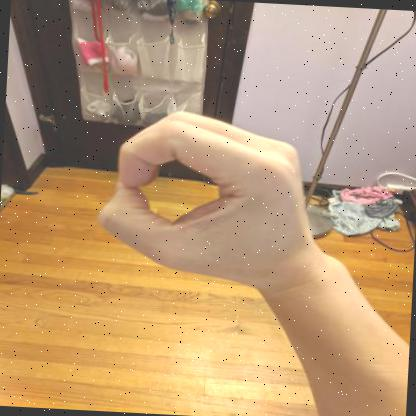O: (97, 111, 319, 290)
